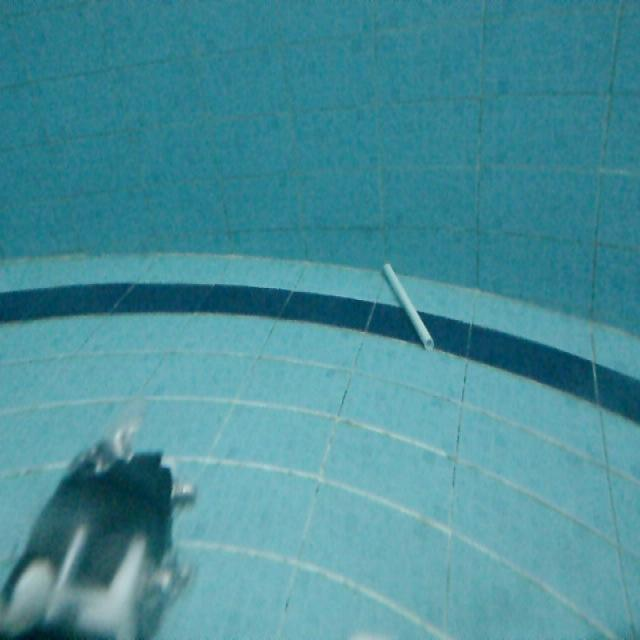Cube: (379, 257, 436, 352)
